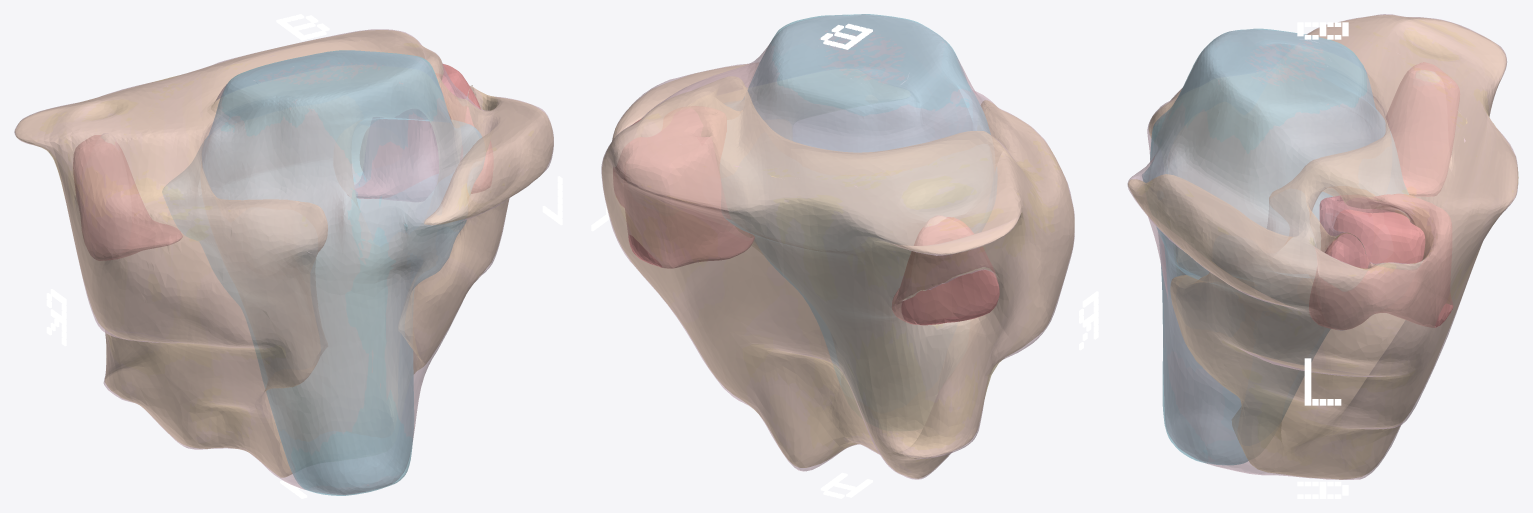
3 renders of one model, left to right at view 1: azimuth 30°, elevation 25°; view 2: azimuth 150°, elevation 25°; view 3: azimuth 270°, elevation 25°, orthographic.
Visible parts, largest first — view 1: prostate_gland, peripheral_zone, transition_zone, lesion_01, pv_ar_marker_B, pv_ar_marker_R; view 2: prostate_gland, peripheral_zone, transition_zone, lesion_01, pv_ar_marker_B, pv_ar_marker_R, pv_ar_marker_A; view 3: prostate_gland, peripheral_zone, transition_zone, lesion_01, pv_ar_marker_B, pv_ar_marker_A, pv_ar_marker_L.
Part boxes in pixels (x1,y1,x2,y2): prostate_gland: [14, 29, 553, 494]; peripheral_zone: [15, 30, 553, 477]; transition_zone: [162, 50, 484, 495]; lesion_01: [73, 64, 493, 260]; pv_ar_marker_B: [276, 14, 329, 40]; pv_ar_marker_R: [46, 289, 66, 346]; prostate_gland: [601, 14, 1074, 479]; peripheral_zone: [602, 64, 1074, 478]; transition_zone: [726, 14, 997, 387]; lesion_01: [613, 106, 999, 325]; pv_ar_marker_B: [820, 23, 872, 49]; pv_ar_marker_R: [1079, 291, 1098, 350]; pv_ar_marker_A: [820, 472, 872, 498]; prostate_gland: [1127, 14, 1518, 479]; peripheral_zone: [1128, 15, 1518, 479]; transition_zone: [1142, 28, 1408, 464]; lesion_01: [1309, 62, 1459, 329]; pv_ar_marker_B: [1297, 22, 1348, 39]; pv_ar_marker_A: [1297, 481, 1348, 498]; pv_ar_marker_L: [1304, 358, 1341, 405].
Size of the model in its own units: 0.0561 by 0.0495 by 0.038.
